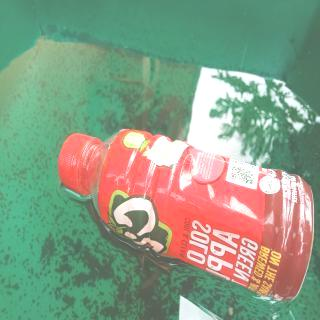bottle: (56, 124, 316, 304)
